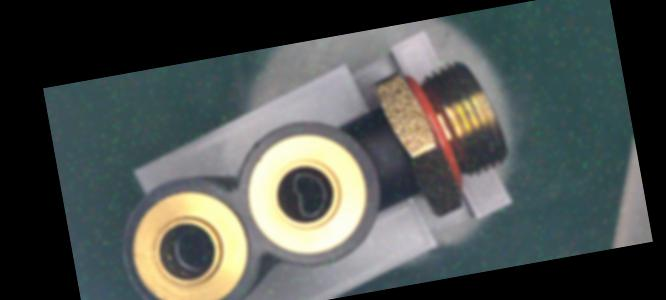off-centered: (168, 219, 219, 277), (284, 164, 334, 223)
